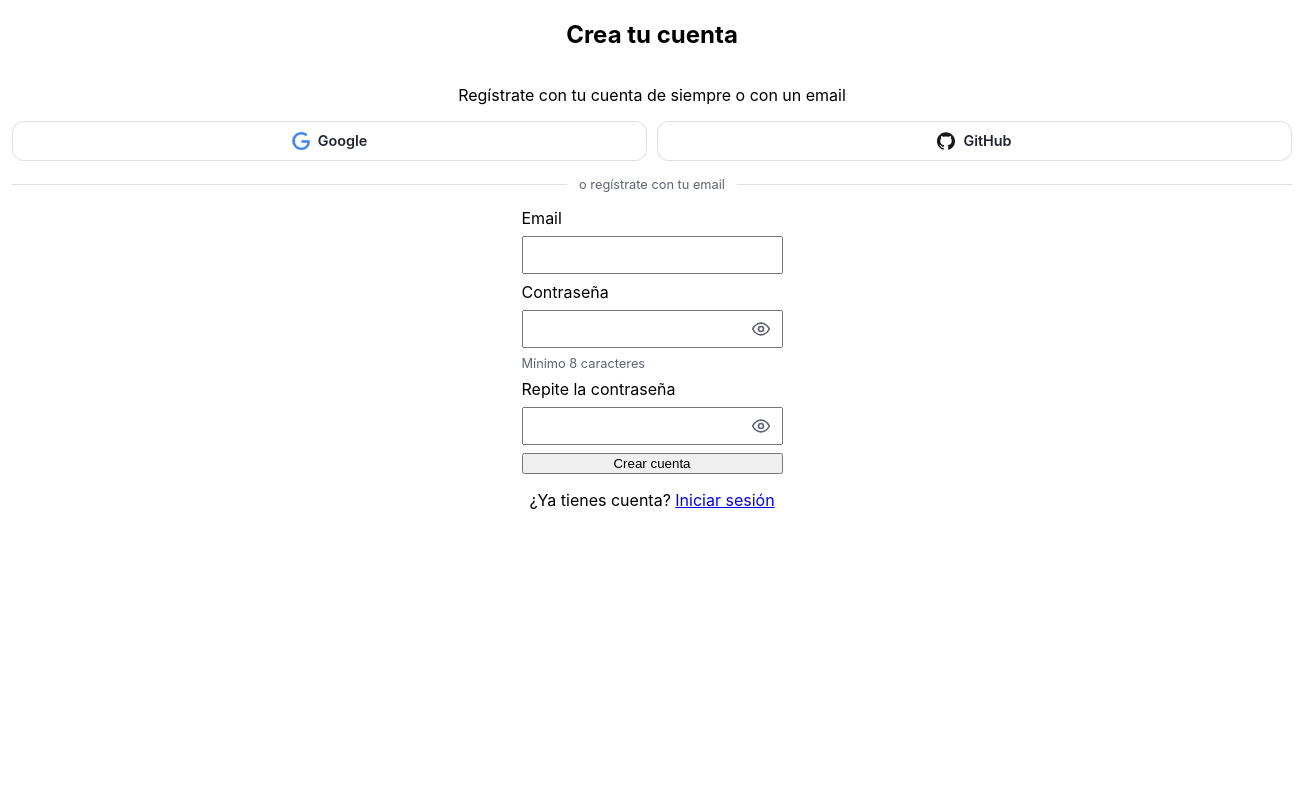
Test: SignUpForm › shows the provider error to the user
The image size is (1304, 800).
In the field labelled "Email": [652, 255] box [522,236,782,274], type "ana@example.com"
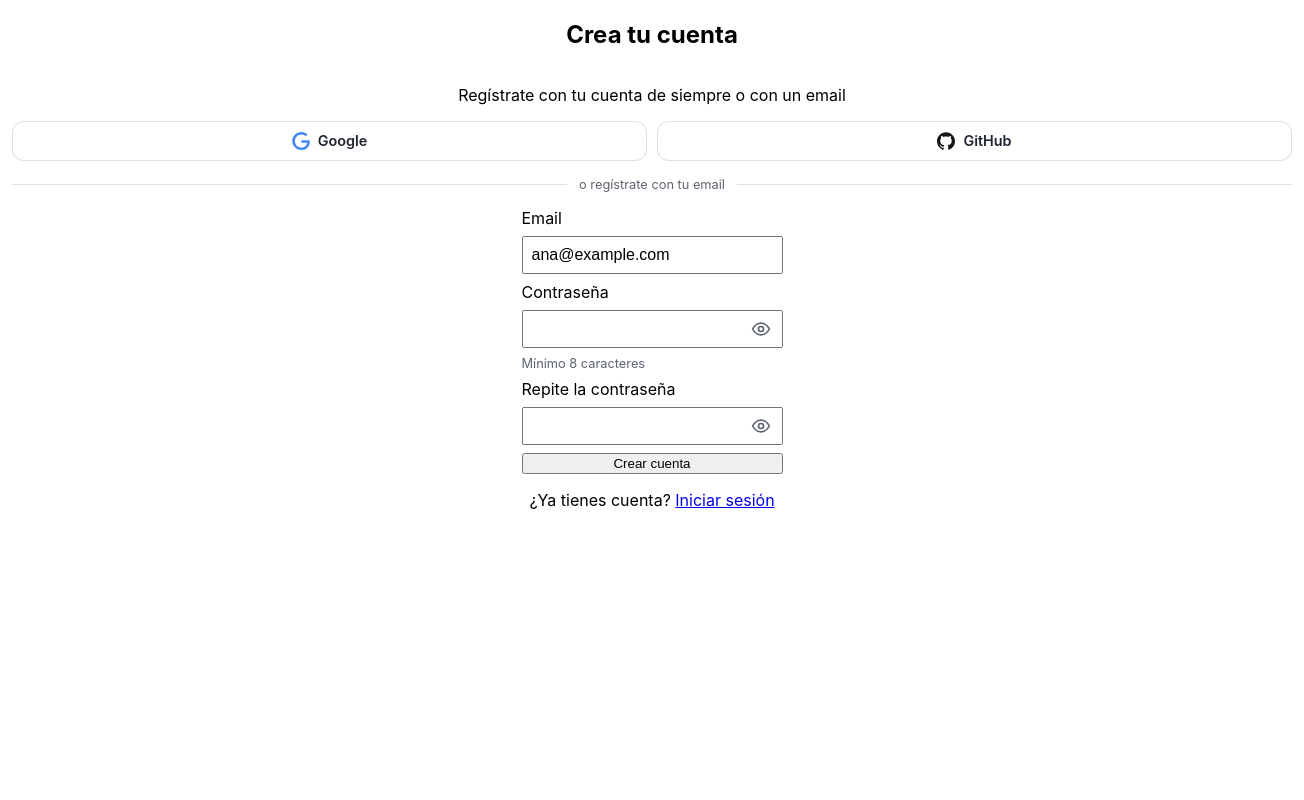
In the password field labelled "Contraseña": [652, 329] box [522,310,782,348], type "secret123"
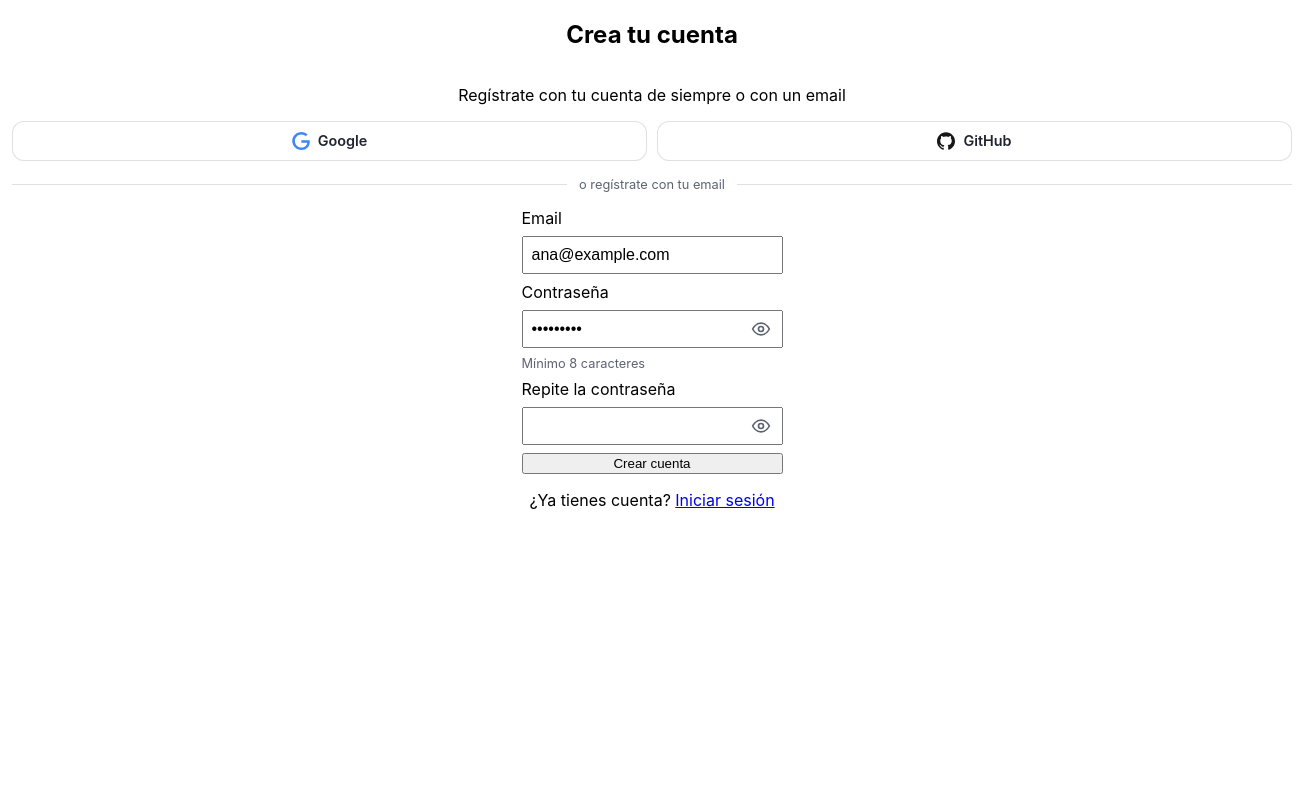
In the password field labelled "Repite la contraseña": [652, 426] box [522,407,782,445], type "secret123"
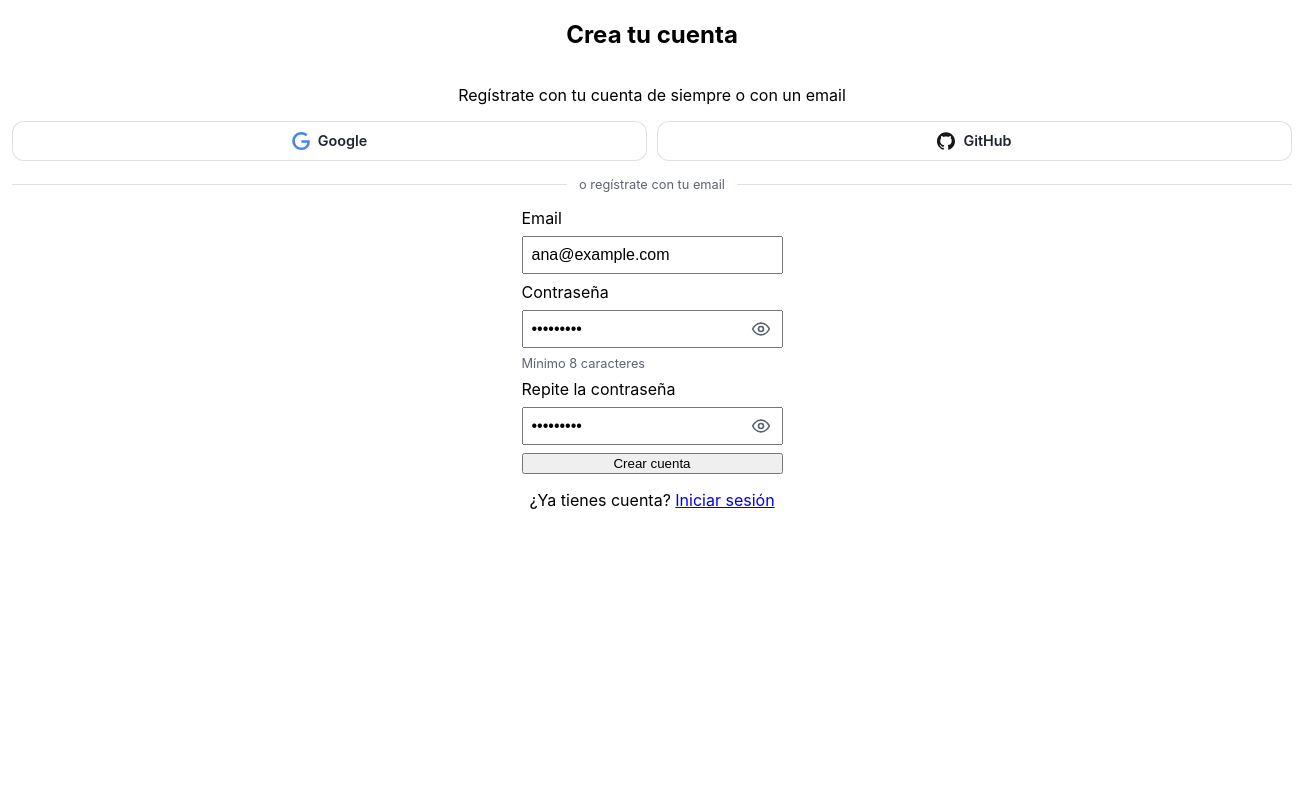
Click the button "Crear cuenta": [652, 463] box [522,453,782,474]
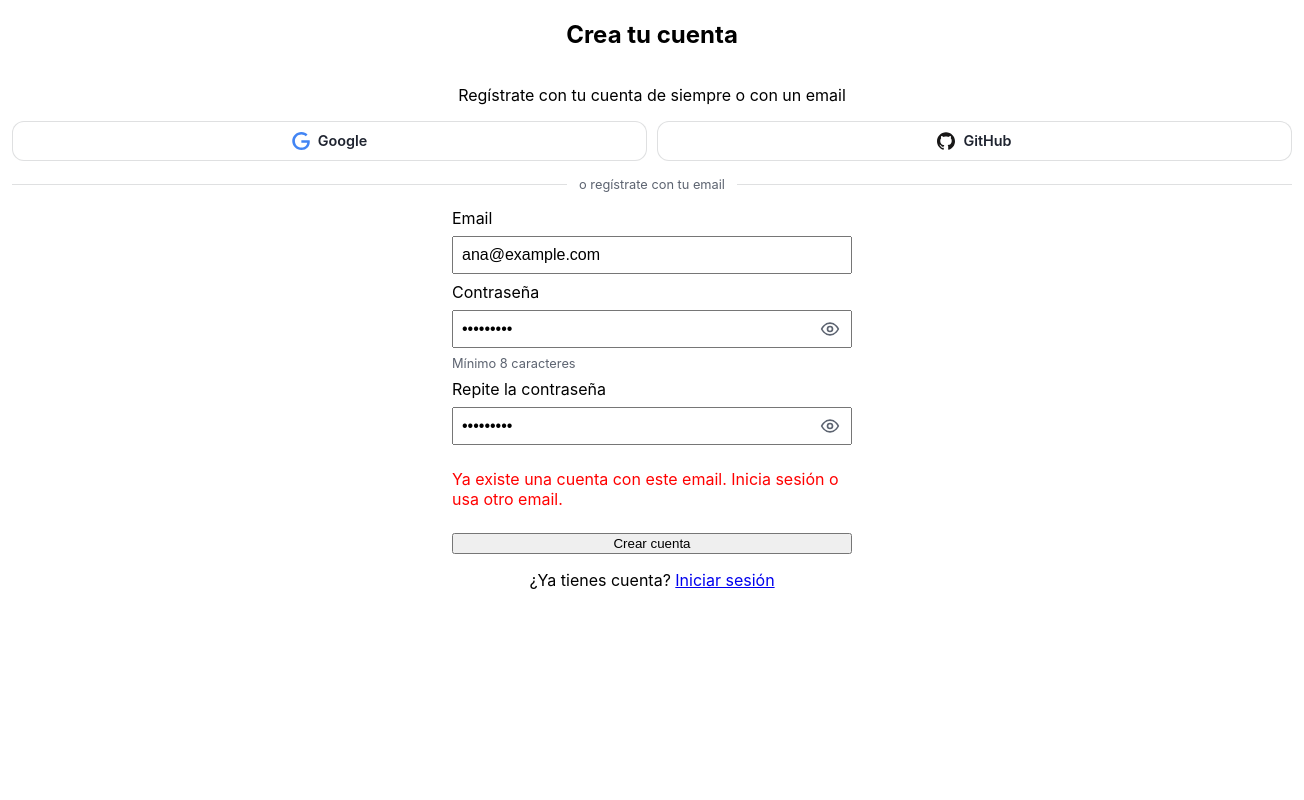
Expected: the message reads "Ya existe una cuenta con este email. Inicia sesión o usa otro email.", [452,469,839,509]
